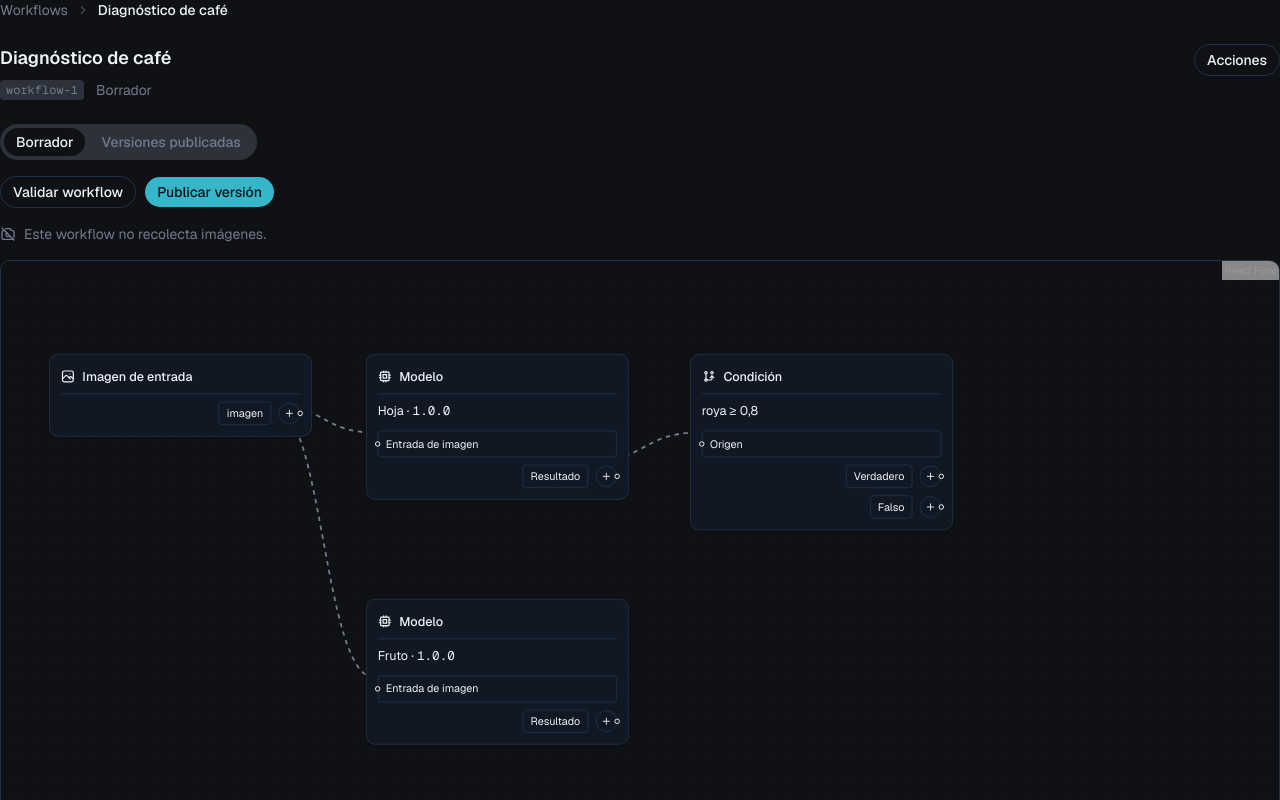
US-132: deleting several nodes at once › keeps the single-node flow when only one node is selected
Expected: the element with test id "workflow-node-model-b" is shown, x1=366 y1=599 x2=629 y2=745
Click the 2nd button "Modelo" at (497, 621), box x1=378 y1=612 x2=617 y2=630
(page scrolled)
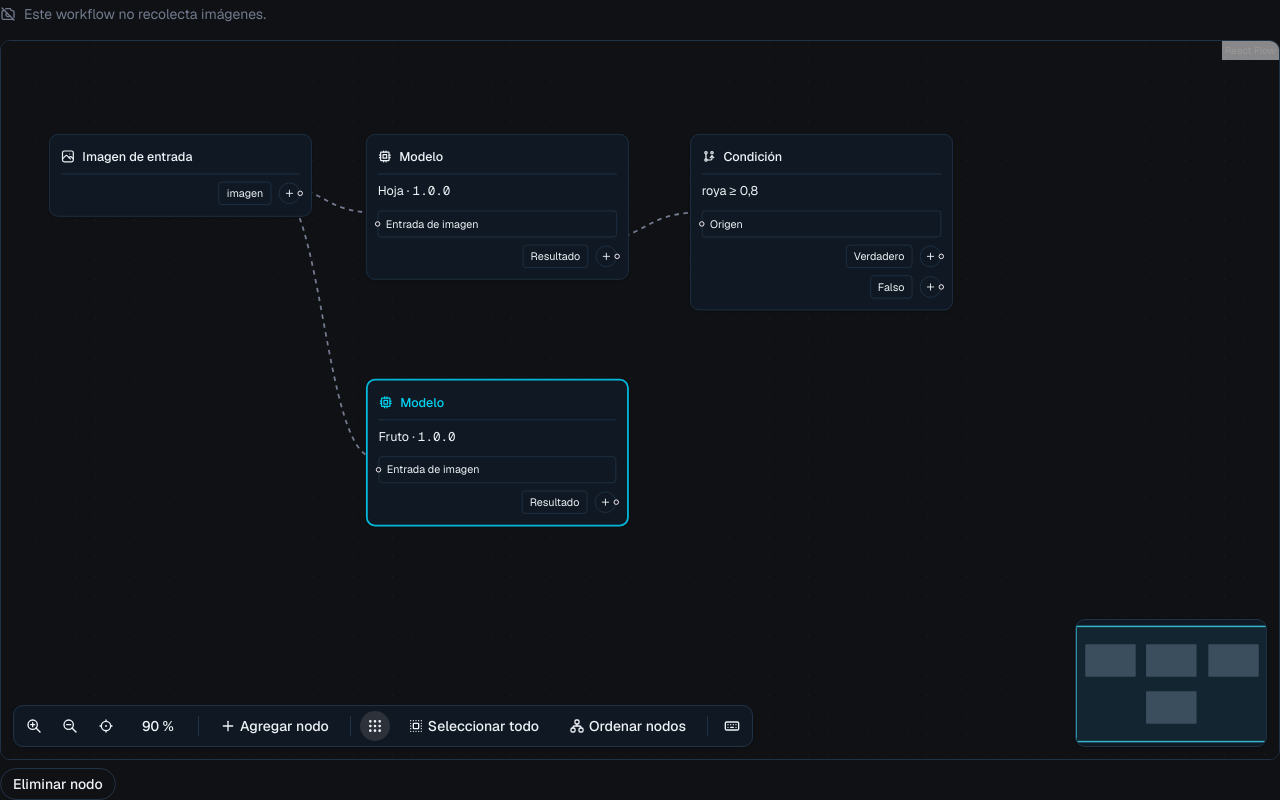
Press Delete in the element named "Lienzo del workflow"
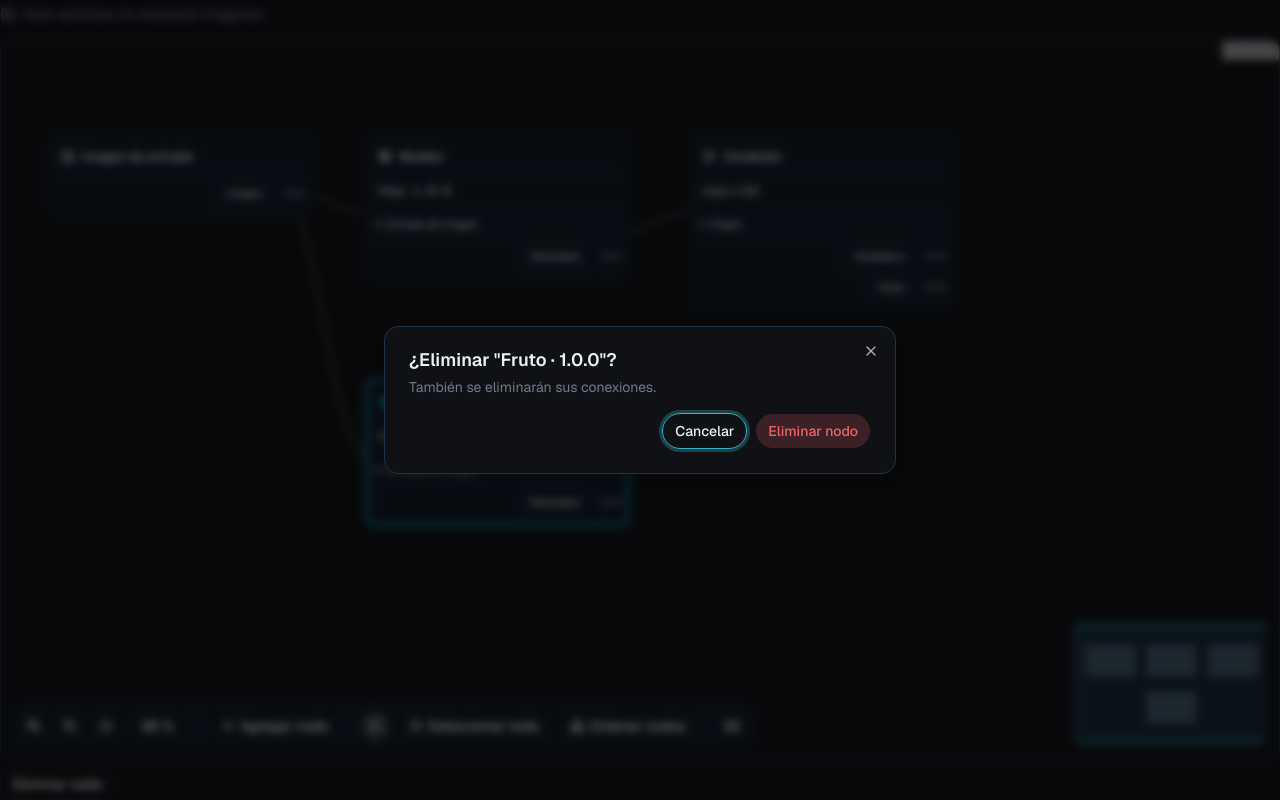
Now the heading "¿Eliminar \"Fruto · 1.0.0\"?" is shown, box x1=409 y1=348 x2=617 y2=371
Now the button "Eliminar nodo" is shown, box x1=755 y1=413 x2=871 y2=449
